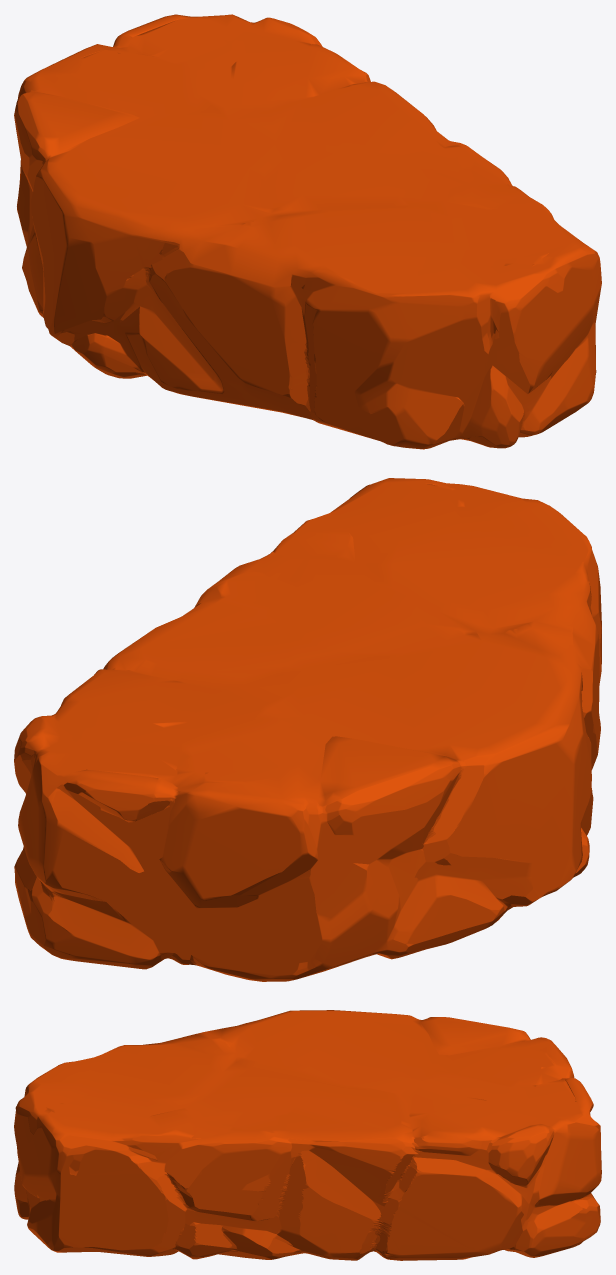
The picture shows the model from 3 angles, top to bottom: view 1: azimuth 30°, elevation 25°; view 2: azimuth 150°, elevation 25°; view 3: azimuth 270°, elevation 25°; orthographic projection. The views are drawn at different scales.
Parts seen in each view (by area): view 1: Mesh_61_LOD0; view 2: Mesh_61_LOD0; view 3: Mesh_61_LOD0.
Boxes of the visible parts, <box> form: Mesh_61_LOD0: <box>14,14,601,449</box>; Mesh_61_LOD0: <box>14,478,601,981</box>; Mesh_61_LOD0: <box>14,1010,601,1260</box>.
Size of what is drawn, in the model's own units: 2632 by 1139 by 4508.
